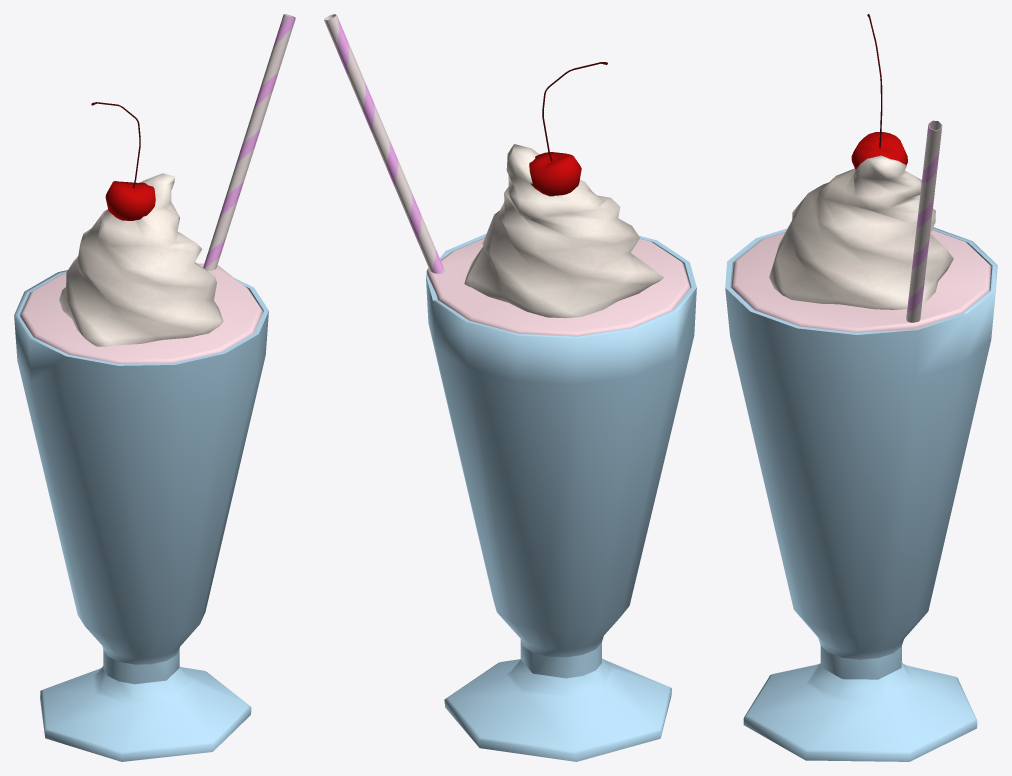
Rendered from Milkshake.glb.
3 renders of one model, left to right at view 1: azimuth 30°, elevation 25°; view 2: azimuth 150°, elevation 25°; view 3: azimuth 270°, elevation 25°, orthographic. The views are drawn at different scales.
Visible parts, largest first — view 1: verre; view 2: verre; view 3: verre.
Boxes of the visible parts, x1=… form: verre: x1=14, y1=14, x2=295, y2=761; verre: x1=324, y1=14, x2=696, y2=761; verre: x1=725, y1=14, x2=997, y2=761.
Bounding box in the file's own units: 0.9847 × 2 × 0.7163.
1 material, 1 textured.
